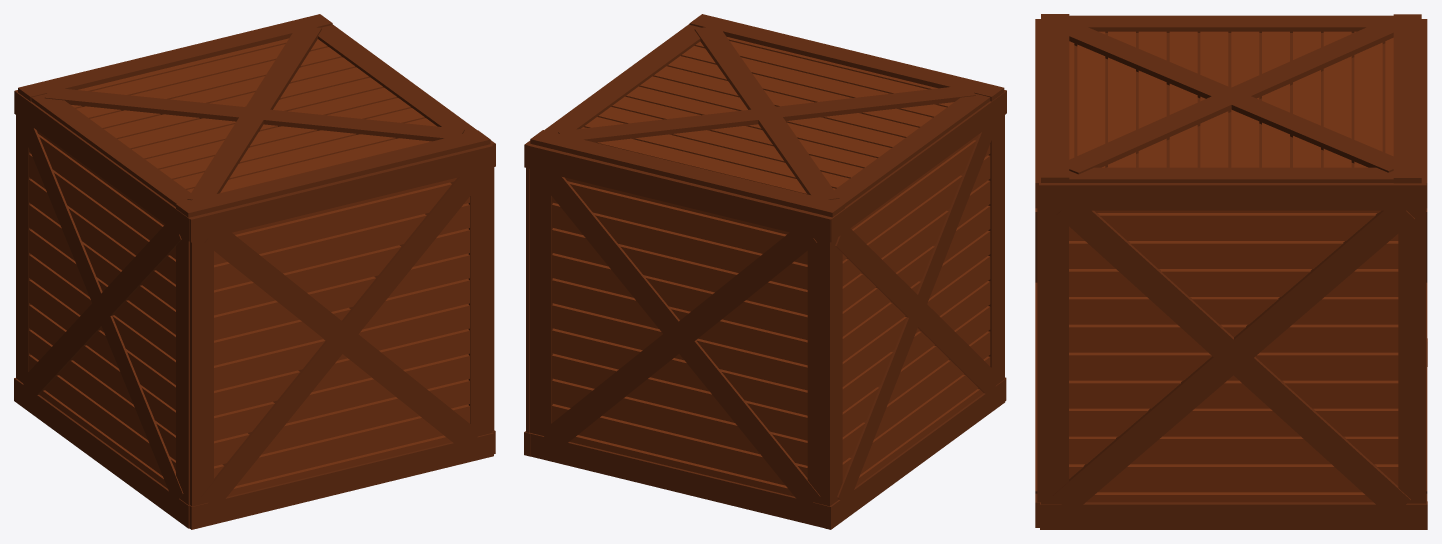
File: Caja.fbx
3 renders of one model, left to right at view 1: azimuth 30°, elevation 25°; view 2: azimuth 150°, elevation 25°; view 3: azimuth 270°, elevation 25°, orthographic. The views are drawn at different scales.
Visible parts, largest first — view 1: Cube.001, Cube.010; view 2: Cube.001, Cube.010; view 3: Cube.001, Cube.010, Cube.
Boxes of the visible parts, x1=… form: Cube.001: x1=29, y1=38, x2=469, y2=496; Cube.010: x1=14, y1=14, x2=495, y2=529; Cube.001: x1=552, y1=37, x2=990, y2=496; Cube.010: x1=524, y1=14, x2=1006, y2=529; Cube.001: x1=1069, y1=31, x2=1398, y2=502; Cube.010: x1=1035, y1=14, x2=1427, y2=529; Cube: x1=1074, y1=33, x2=1385, y2=167.
Size of the model in its own units: 211 by 207 by 210.
